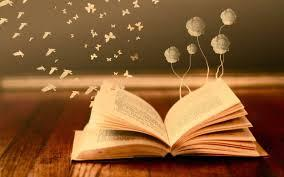Paper: (64, 75, 278, 177)
